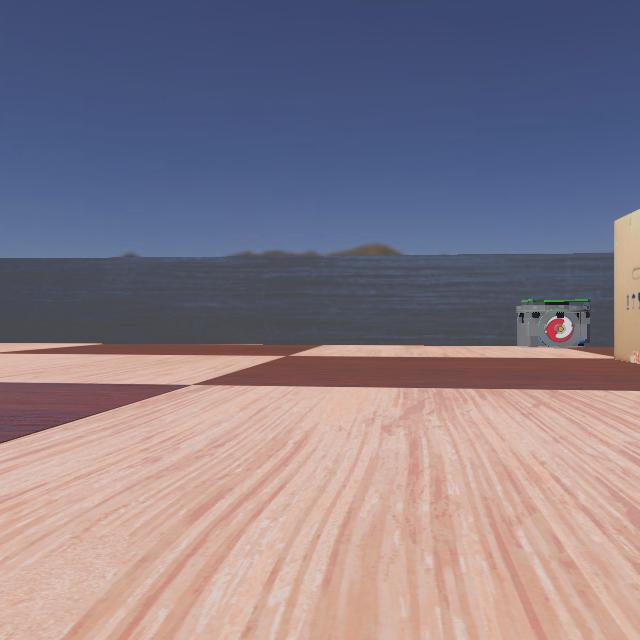cardboard-box: (612, 178, 640, 376)
